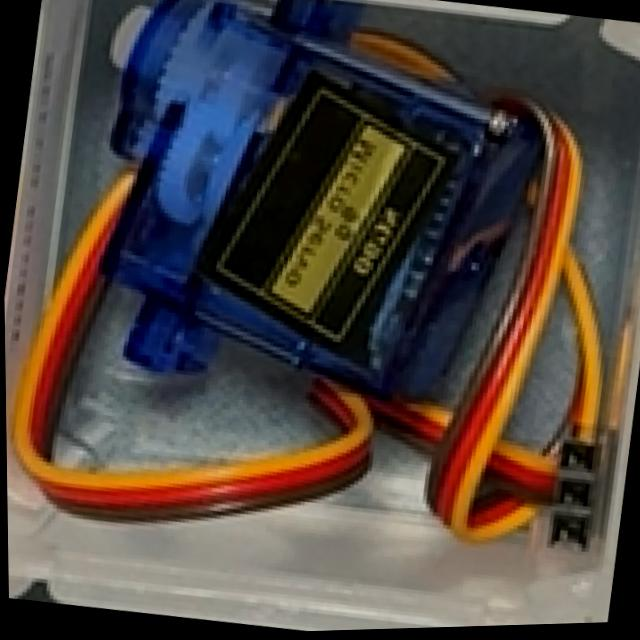Servo motor: (66, 0, 567, 435)
